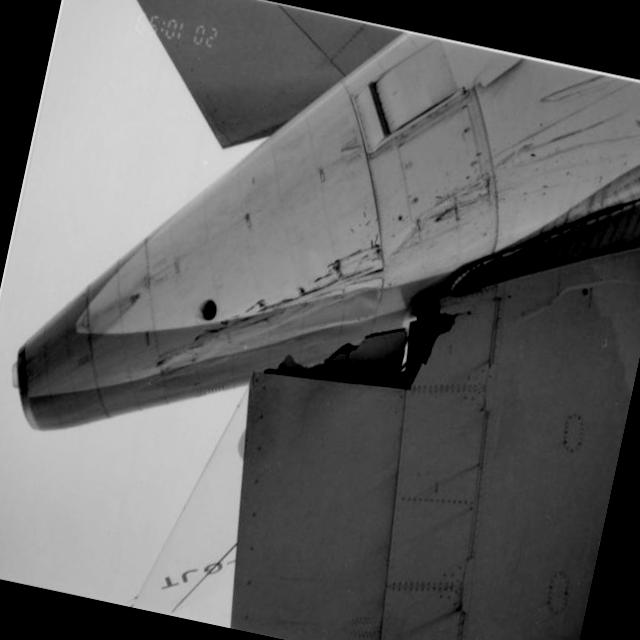crack: (259, 271, 470, 418)
